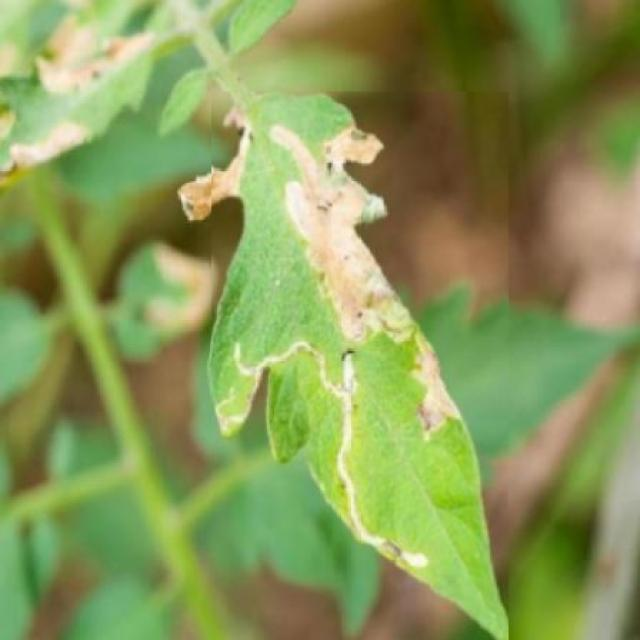Leaf Miner: (212, 91, 509, 640)
